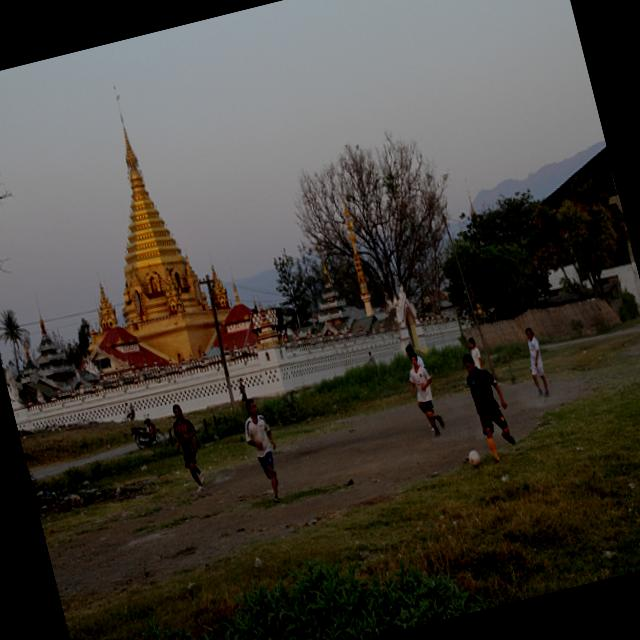Vehicle: (129, 411, 166, 450)
